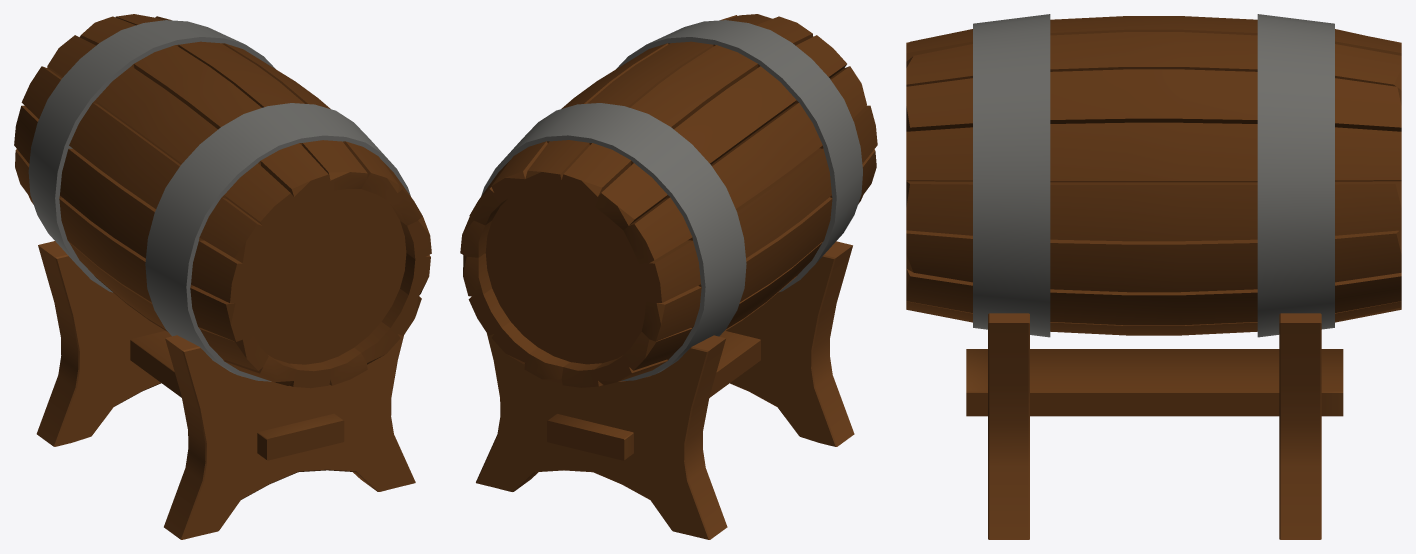
Rendered from SM_MainBarrel.fbx.
The picture shows the model from 3 angles, left to right: view 1: azimuth 30°, elevation 25°; view 2: azimuth 150°, elevation 25°; view 3: azimuth 270°, elevation 25°; orthographic projection. The views are drawn at different scales.
Parts seen in each view (by area): view 1: SM_MainBarrel; view 2: SM_MainBarrel; view 3: SM_MainBarrel.
Part boxes in pixels (left/top/right/bottom): SM_MainBarrel: left=14, top=14, right=431, bottom=539; SM_MainBarrel: left=460, top=14, right=877, bottom=539; SM_MainBarrel: left=906, top=14, right=1401, bottom=539.
Size of the model in its own units: 0.9985 by 1.51 by 1.53.
2 materials, 2 textured.
